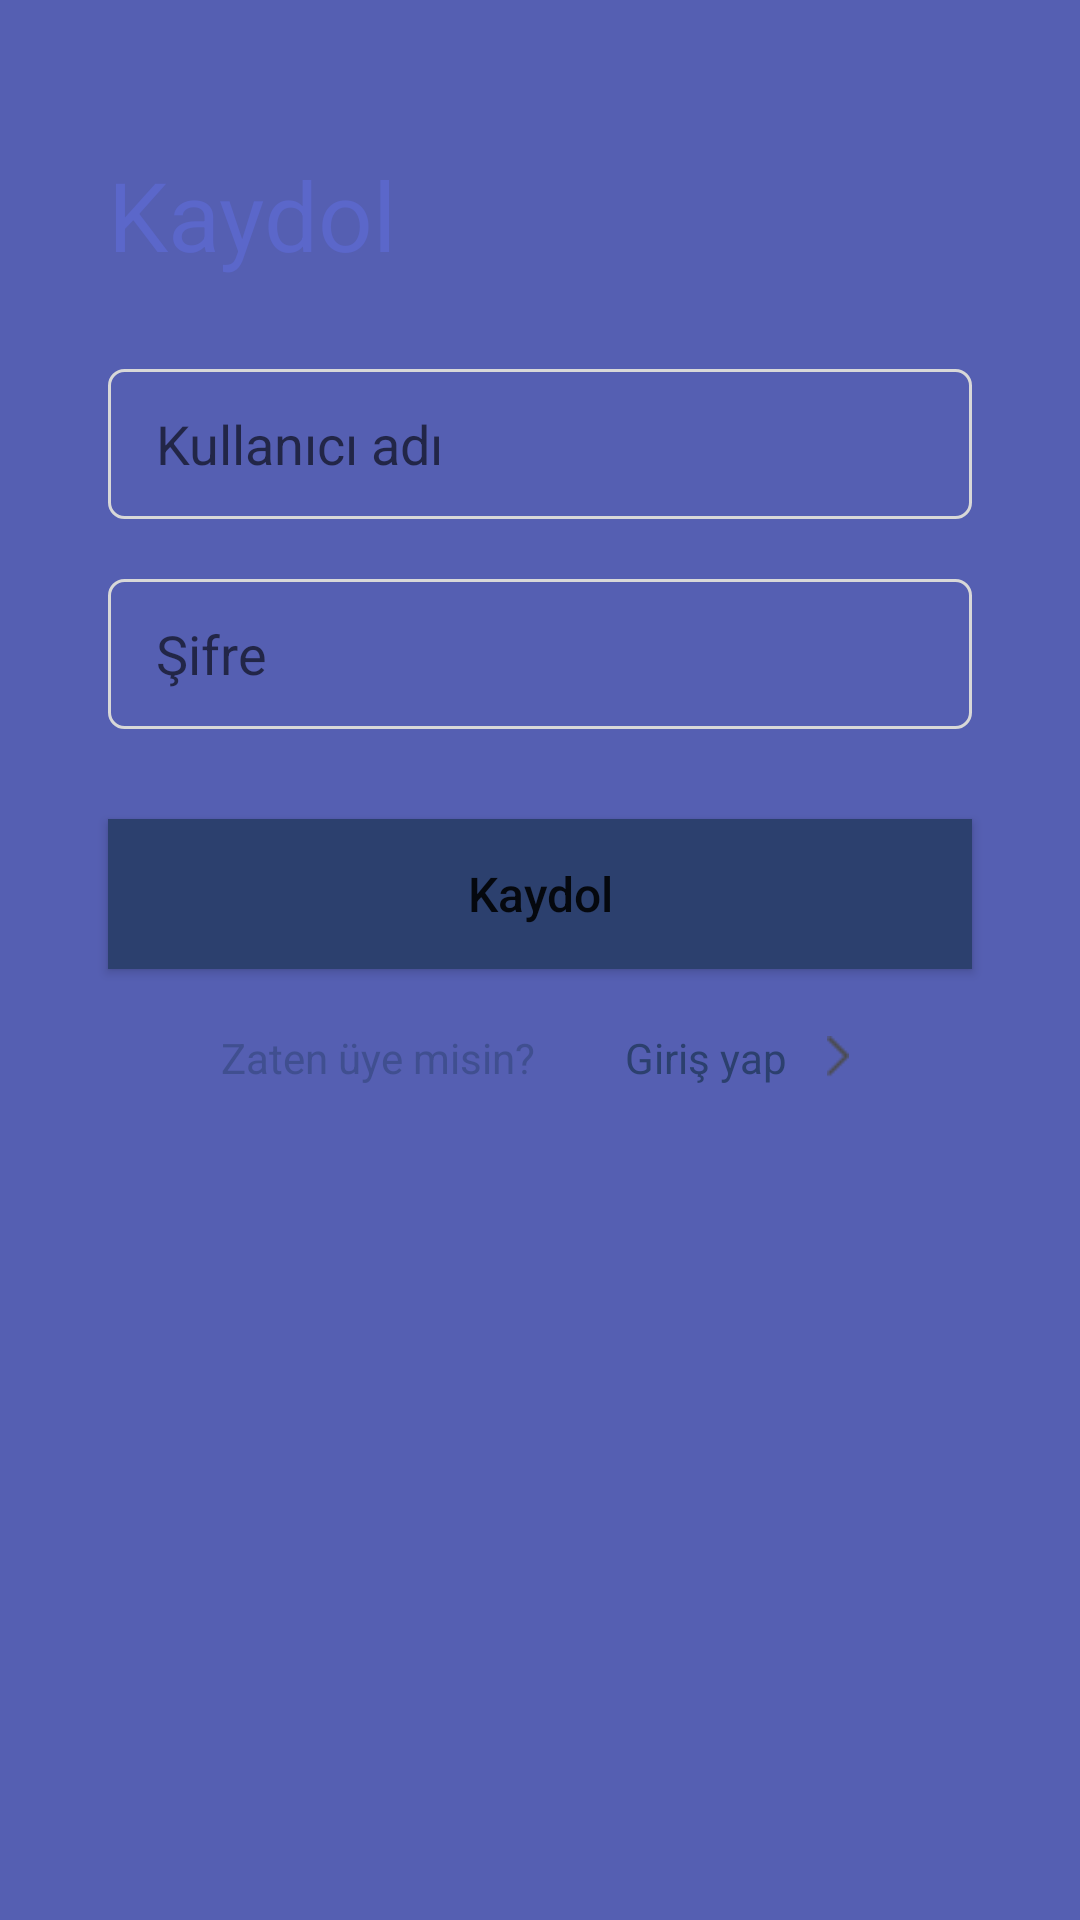

Icons on this 1080×1920 Android screen, each with the point to tap as (x,y):
forward: (838,1056)
